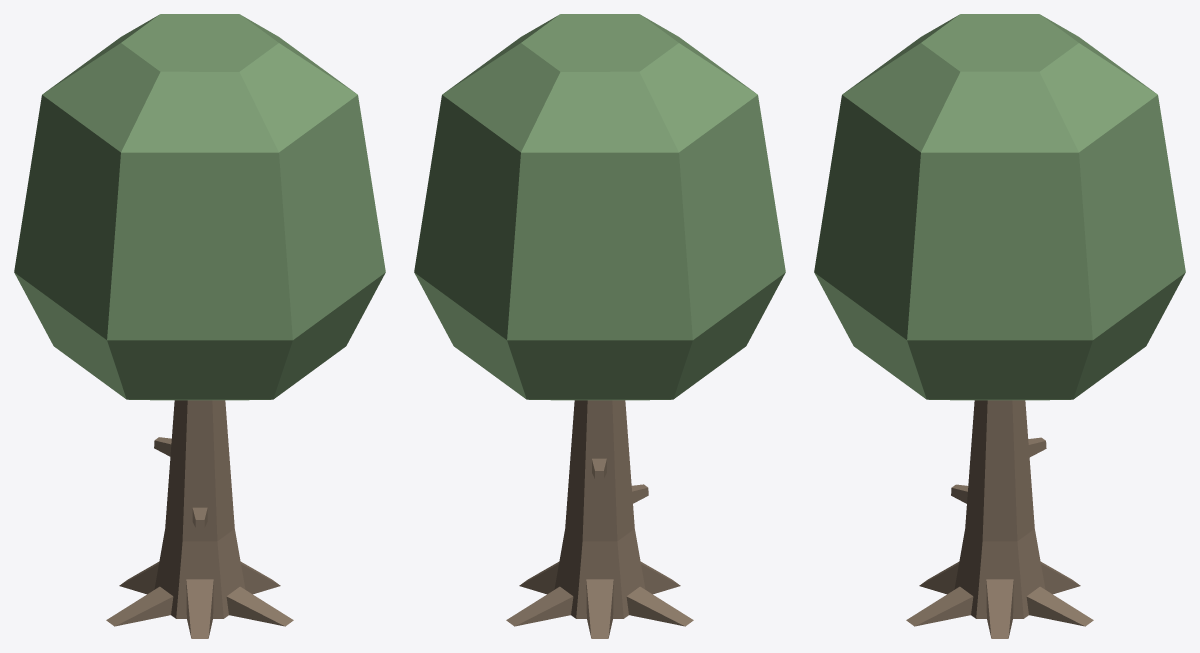
The model's file is canopy-b.glb.
3 views of the same model, side by side, from view 1: azimuth 30°, elevation 25°; view 2: azimuth 150°, elevation 25°; view 3: azimuth 270°, elevation 25° (orthographic).
Parts seen in each view (by area): view 1: tree_oak; view 2: tree_oak; view 3: tree_oak.
Boxes of the visible parts, left/top/right/bottom form: tree_oak: left=14, top=14, right=385, bottom=638; tree_oak: left=414, top=14, right=785, bottom=638; tree_oak: left=814, top=14, right=1185, bottom=638.
Bounding box in the file's own units: 5.12 × 9.8 × 5.91.
